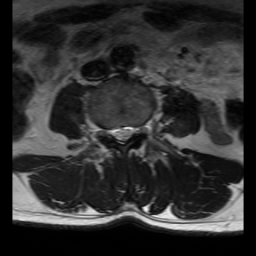CCS_normal: (119, 117, 127, 151)
LFS_normal: (135, 117, 144, 142)
LLS_normal: (127, 117, 135, 144)
RFS_normal: (103, 119, 111, 144)
RLS_normal: (111, 120, 119, 146)
